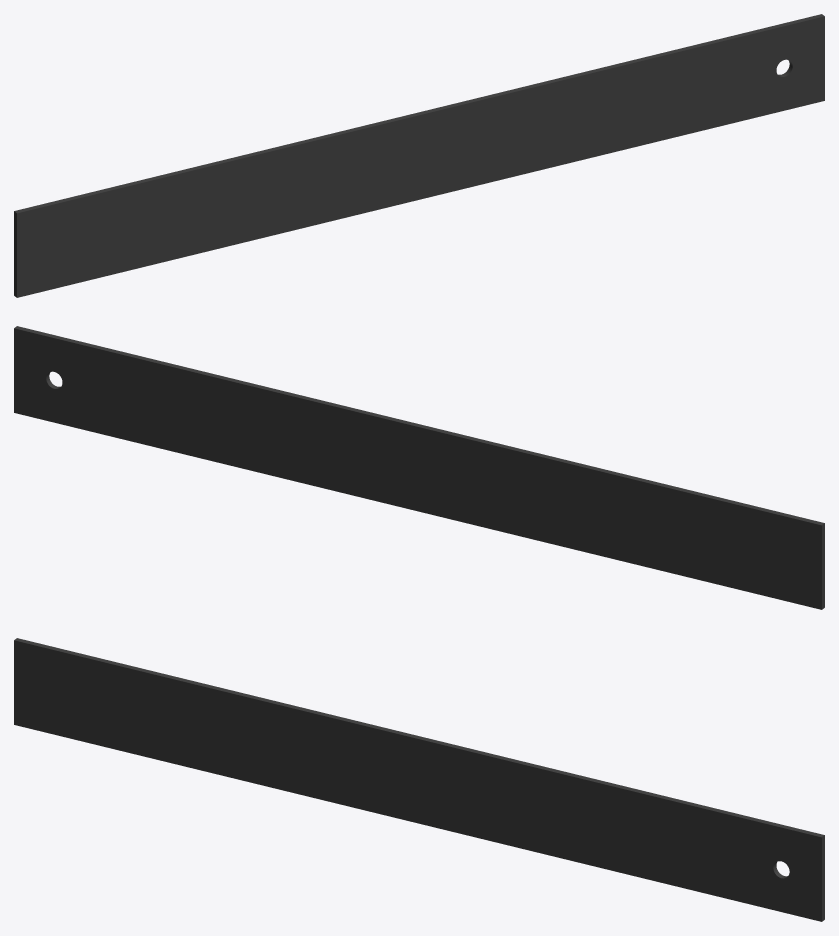
The model's file is muroInferior.obj.
3 views of the same model, one above another, from view 1: azimuth 30°, elevation 25°; view 2: azimuth 150°, elevation 25°; view 3: azimuth 330°, elevation 25° (orthographic).
Visible parts, largest first — view 1: Box001; view 2: Box001; view 3: Box001.
Boxes of the visible parts, bbox=[...] form: Box001: bbox=[14, 14, 824, 297]; Box001: bbox=[14, 326, 824, 609]; Box001: bbox=[14, 638, 824, 921].
Bounding box in the file's own units: 30 × 3 × 0.2.
